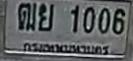0: (82, 7, 95, 33), (98, 7, 110, 34)
1: (70, 5, 79, 32)
6: (112, 8, 125, 35)
A18: (17, 3, 36, 31)
A34: (38, 2, 54, 31)
BKK: (20, 40, 113, 56)
